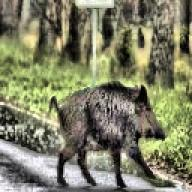boar: (48, 80, 165, 188)
